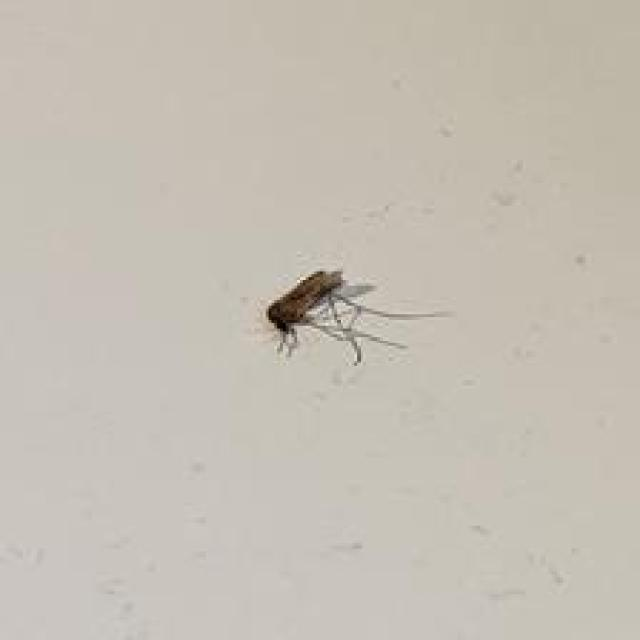Culex: (263, 266, 451, 366)
